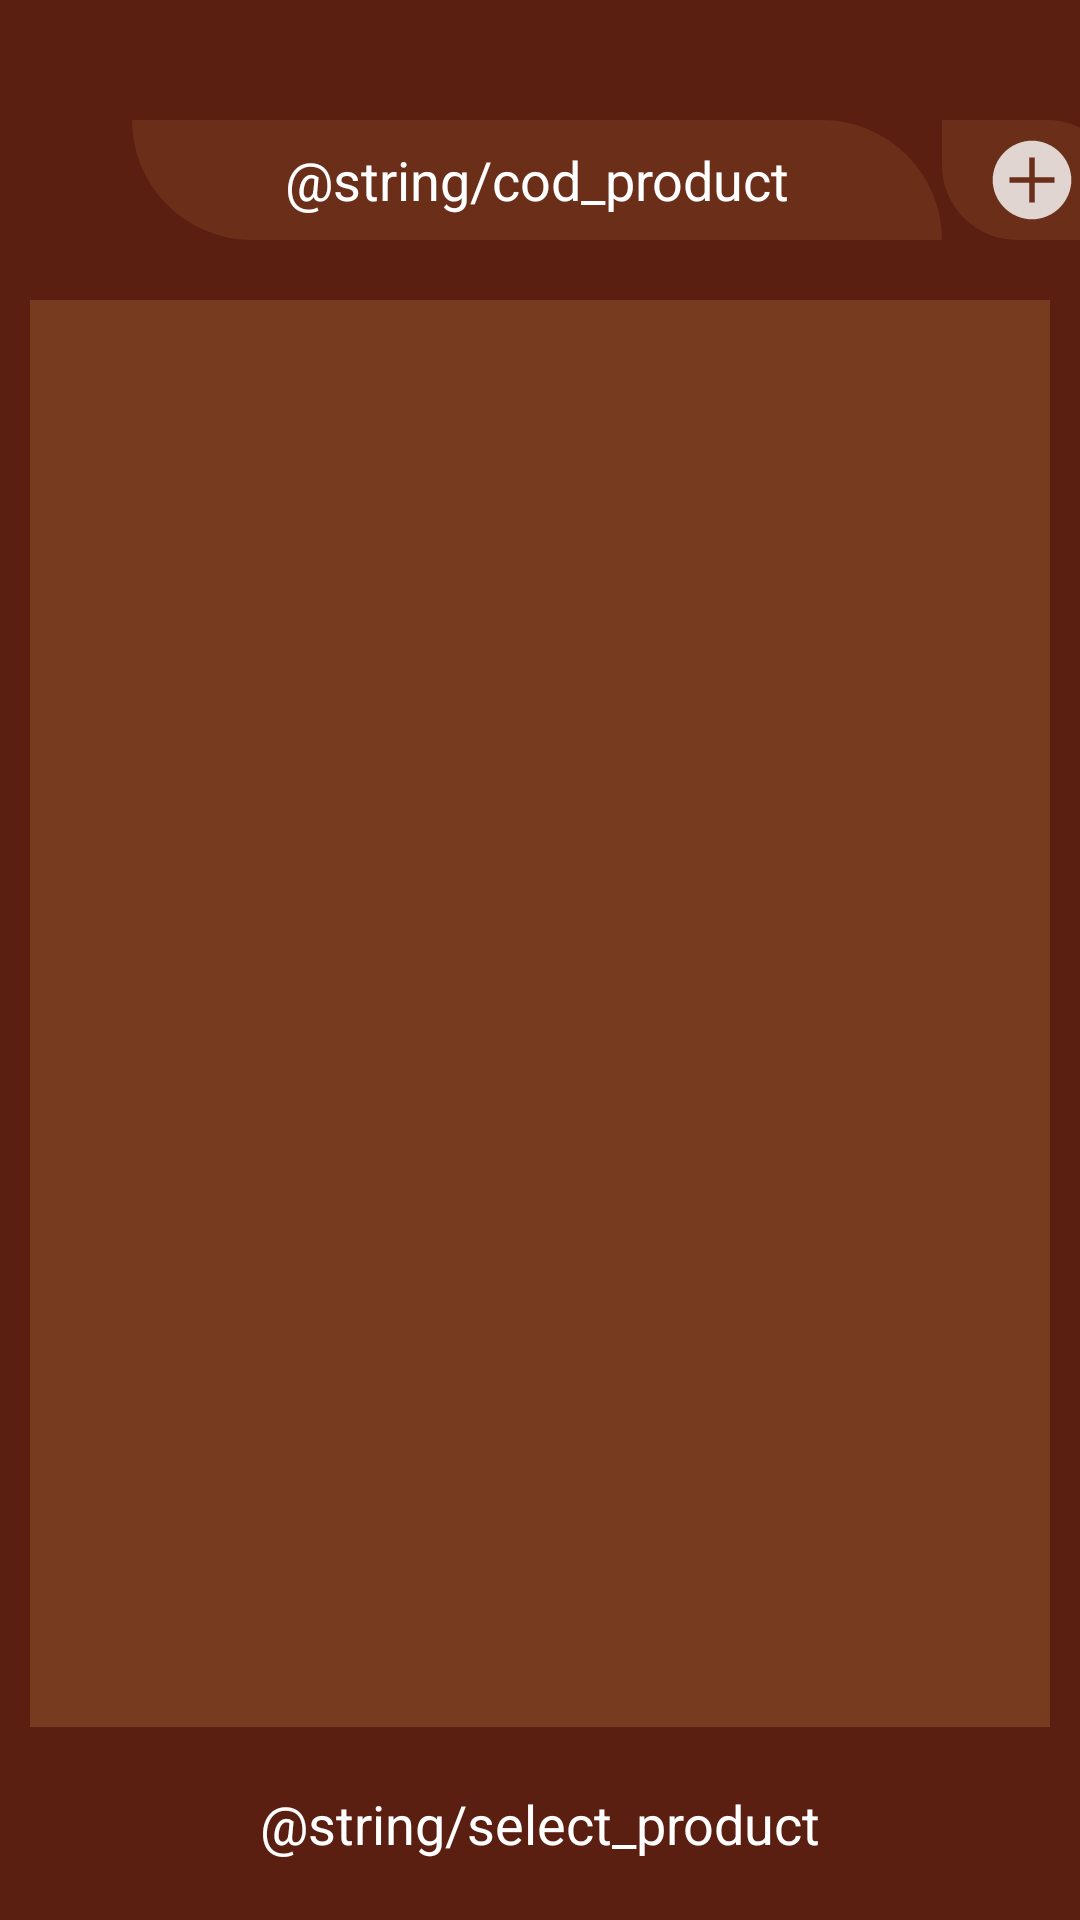

Locate icon controls on the screen. Image size 1080x1920, boxes as box=[x1, y1, x2, y2].
plus: box=[992, 140, 1072, 220]
